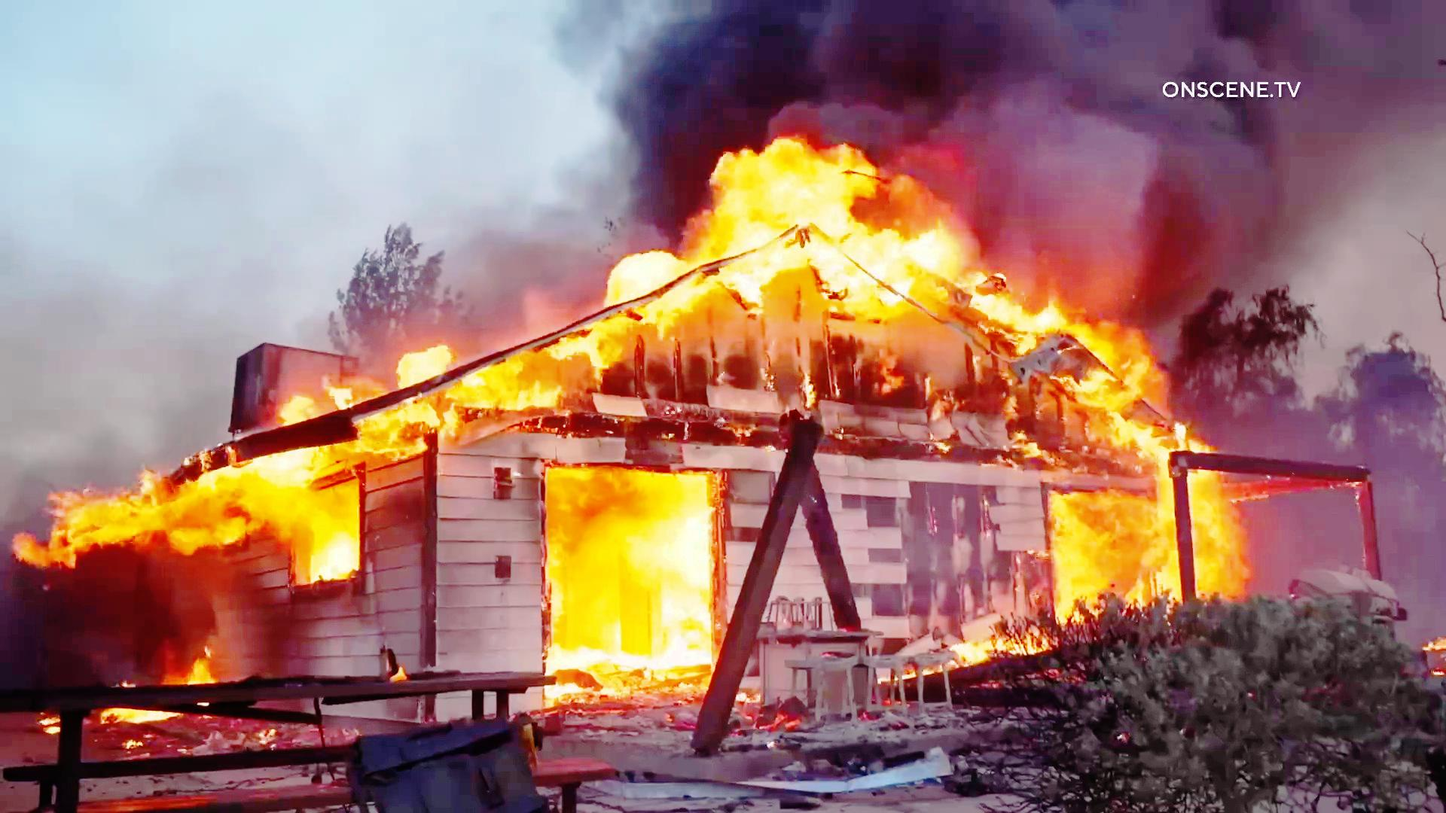fire: (1028, 305, 1243, 605), (725, 149, 954, 306), (552, 473, 712, 669), (275, 478, 349, 577)
smoke: (997, 98, 1430, 285), (627, 10, 1144, 136)
